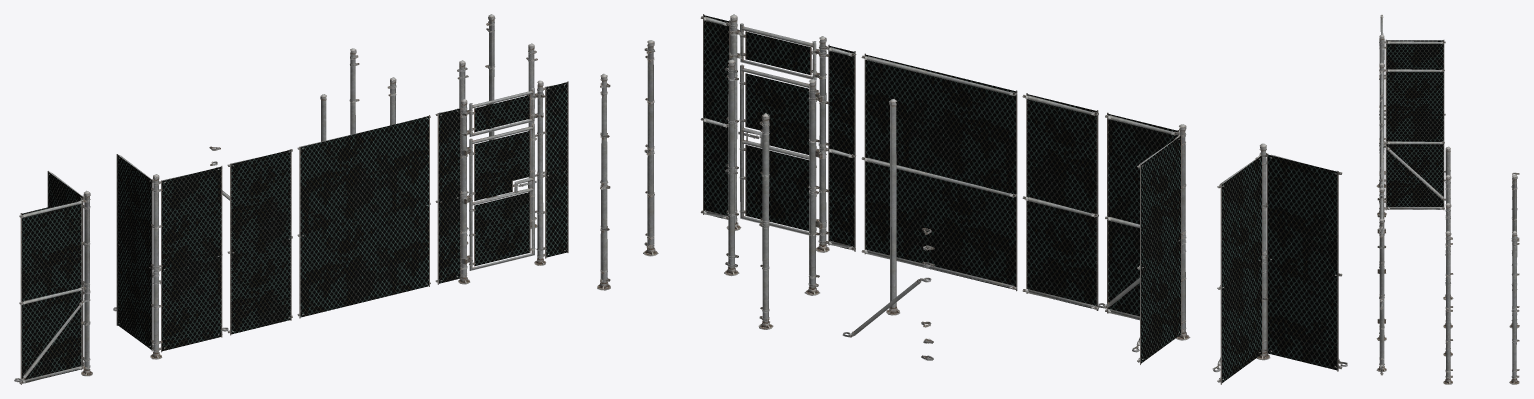
The model's file is modular_chainlink_fence.glb.
3 views of the same model, side by side, from view 1: azimuth 30°, elevation 25°; view 2: azimuth 150°, elevation 25°; view 3: azimuth 270°, elevation 25° (orthographic). The views are drawn at different scales.
Visible parts, largest first — view 1: modular_chainlink_fence_double, modular_chainlink_fence_corner_outer, modular_chainlink_fence_door_frame, modular_chainlink_fence_corner_inner, modular_chainlink_fence, modular_chainlink_fence_door_gate, modular_chainlink_fence_start_01_corner_01, modular_chainlink_fence_start_01_corner_02, modular_chainlink_fence_end_02; view 2: modular_chainlink_fence_double, modular_chainlink_fence_corner_inner, modular_chainlink_fence_corner_outer, modular_chainlink_fence_door_frame, modular_chainlink_fence, modular_chainlink_fence_door_gate, modular_chainlink_post_middle, modular_chainlink_fence_end_02, modular_chainlink_fence_start_01_corner_01, modular_chainlink_fence_end_01, modular_chainlink_fence_start_01_corner_02, modular_chainlink_fence_post; view 3: modular_chainlink_fence_corner_outer, modular_chainlink_fence_corner_inner, modular_chainlink_fence_door_frame, modular_chainlink_fence_start_01_corner_02, modular_chainlink_fence_start_01_corner_01, modular_chainlink_fence_end_02, modular_chainlink_fence_post, modular_chainlink_fence_end_01, modular_chainlink_post_middle, modular_chainlink_fence_double.
Part boxes in pixels (box(x1,y1,x2,y2)): modular_chainlink_fence_double: box(297, 115, 430, 318); modular_chainlink_fence_corner_outer: box(113, 154, 228, 359); modular_chainlink_fence_door_frame: box(435, 80, 568, 284); modular_chainlink_fence_corner_inner: box(14, 171, 92, 384); modular_chainlink_fence: box(227, 149, 292, 335); modular_chainlink_fence_door_gate: box(469, 123, 535, 270); modular_chainlink_fence_start_01_corner_01: box(526, 43, 537, 228); modular_chainlink_fence_start_01_corner_02: box(485, 14, 496, 198); modular_chainlink_fence_end_02: box(349, 48, 359, 134); modular_chainlink_fence_double: box(861, 53, 1017, 291); modular_chainlink_fence_corner_inner: box(1212, 143, 1347, 384); modular_chainlink_fence_corner_outer: box(1098, 112, 1190, 364); modular_chainlink_fence_door_frame: box(700, 14, 856, 252); modular_chainlink_fence: box(1022, 93, 1098, 310); modular_chainlink_fence_door_gate: box(739, 64, 816, 236); modular_chainlink_post_middle: box(724, 59, 739, 276); modular_chainlink_fence_end_02: box(758, 113, 773, 329); modular_chainlink_fence_start_01_corner_01: box(643, 40, 658, 256); modular_chainlink_fence_end_01: box(804, 79, 819, 295); modular_chainlink_fence_start_01_corner_02: box(597, 73, 610, 290); modular_chainlink_fence_post: box(886, 99, 899, 315); modular_chainlink_fence_corner_outer: box(1377, 62, 1450, 215); modular_chainlink_fence_corner_inner: box(1376, 14, 1450, 188); modular_chainlink_fence_door_frame: box(1376, 183, 1386, 375); modular_chainlink_fence_start_01_corner_02: box(1509, 230, 1519, 384); modular_chainlink_fence_start_01_corner_01: box(1443, 231, 1453, 384); modular_chainlink_fence_end_02: box(1509, 174, 1519, 328); modular_chainlink_fence_post: box(1443, 146, 1453, 300); modular_chainlink_fence_end_01: box(1443, 175, 1452, 328); modular_chainlink_post_middle: box(1443, 203, 1452, 356); modular_chainlink_fence_double: box(1380, 127, 1383, 181).
Bounding box in the file's own units: 8.12 × 2.52 × 2.16.
2 materials, 2 textured.
